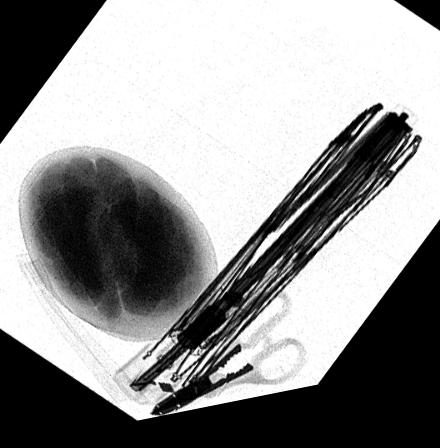Scissors: (143, 297, 309, 424)
